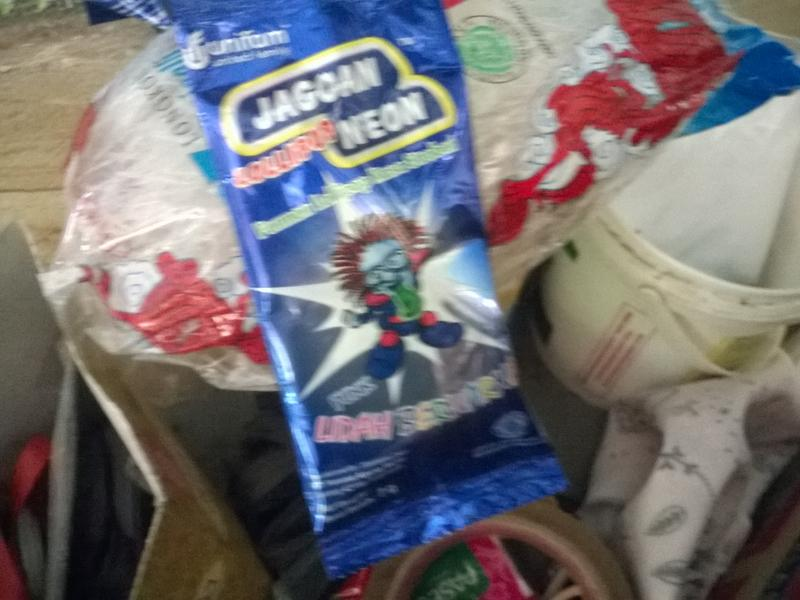jagoan neon: (173, 1, 571, 575)
